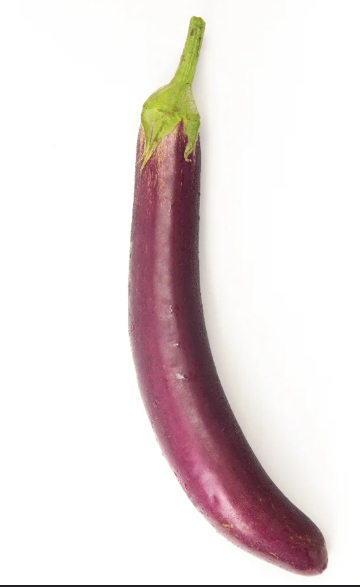catim: (105, 16, 346, 575)
